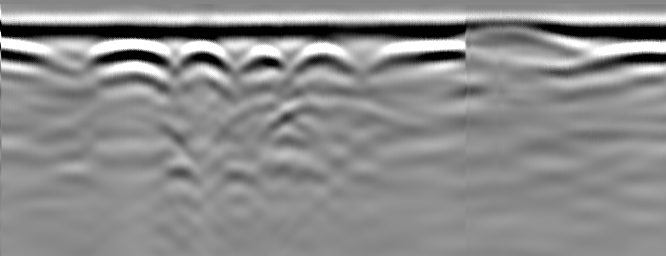pipe: (462, 18, 580, 54)
steel: (88, 40, 177, 71), (584, 44, 666, 75), (374, 41, 464, 69), (292, 41, 358, 74), (177, 42, 232, 75), (1, 39, 60, 68), (239, 42, 285, 72)
